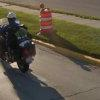Motorcycle: (1, 12, 39, 80)
